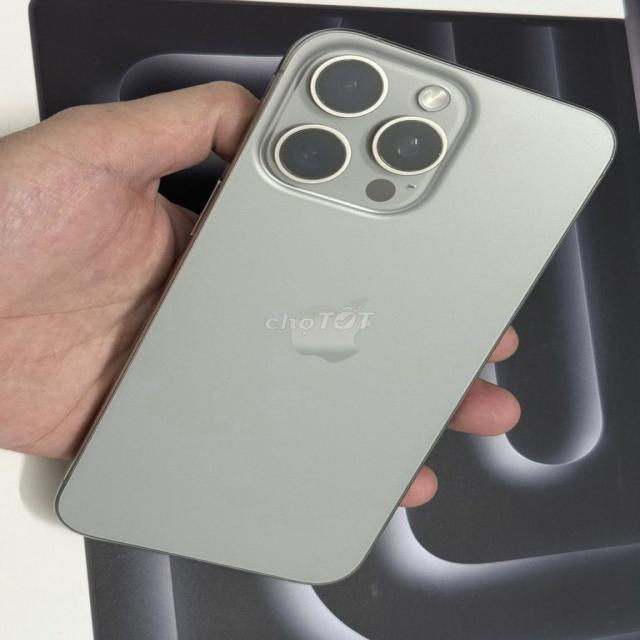gen_15: (55, 25, 625, 595)
